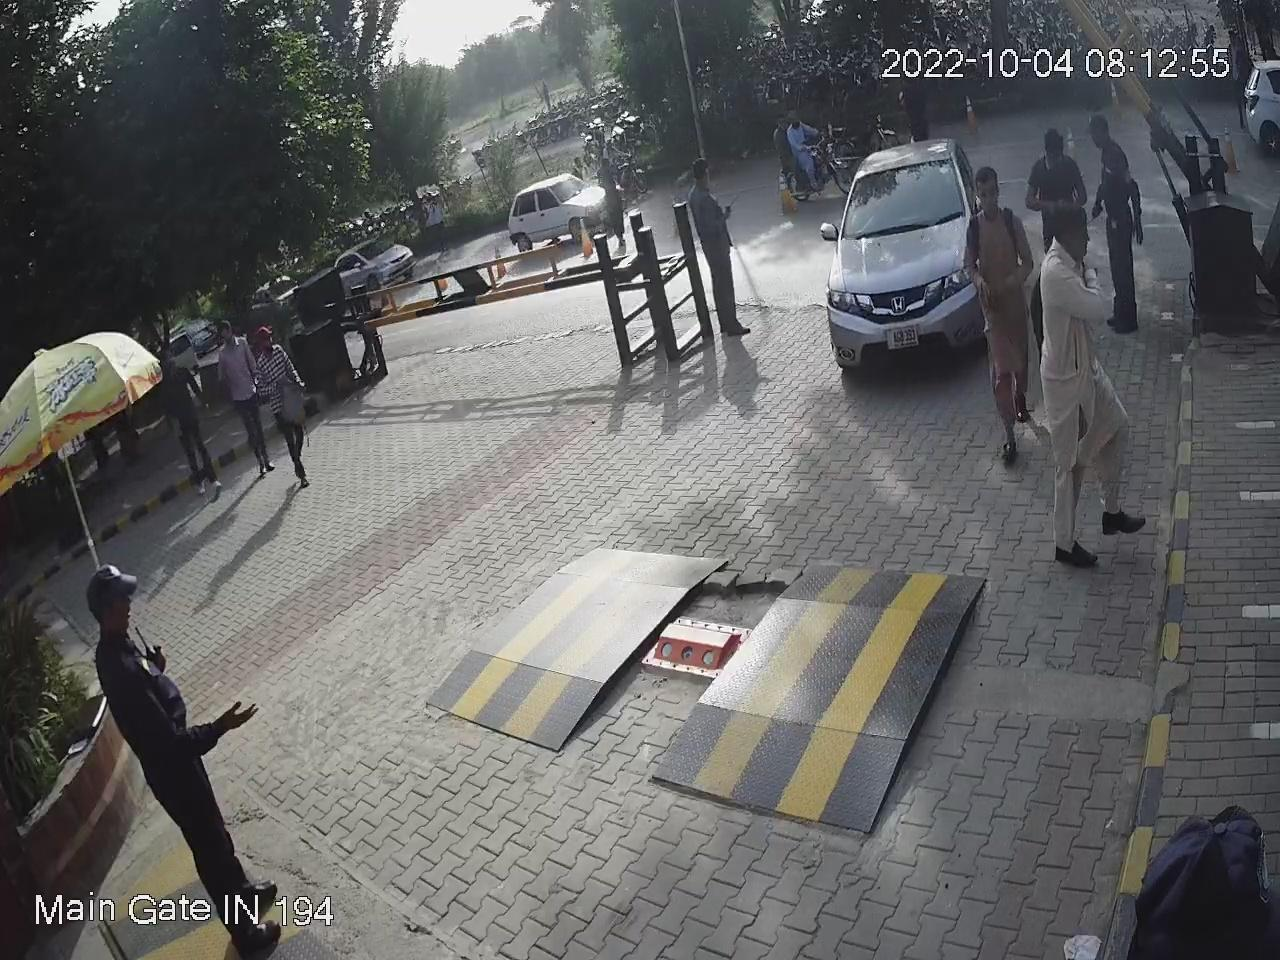windshield: (843, 147, 968, 238)
